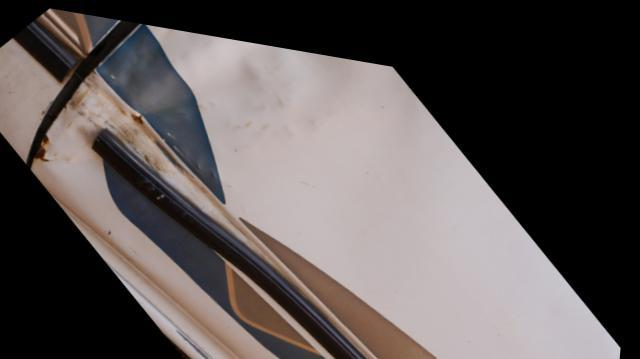dent: (76, 21, 500, 214)
